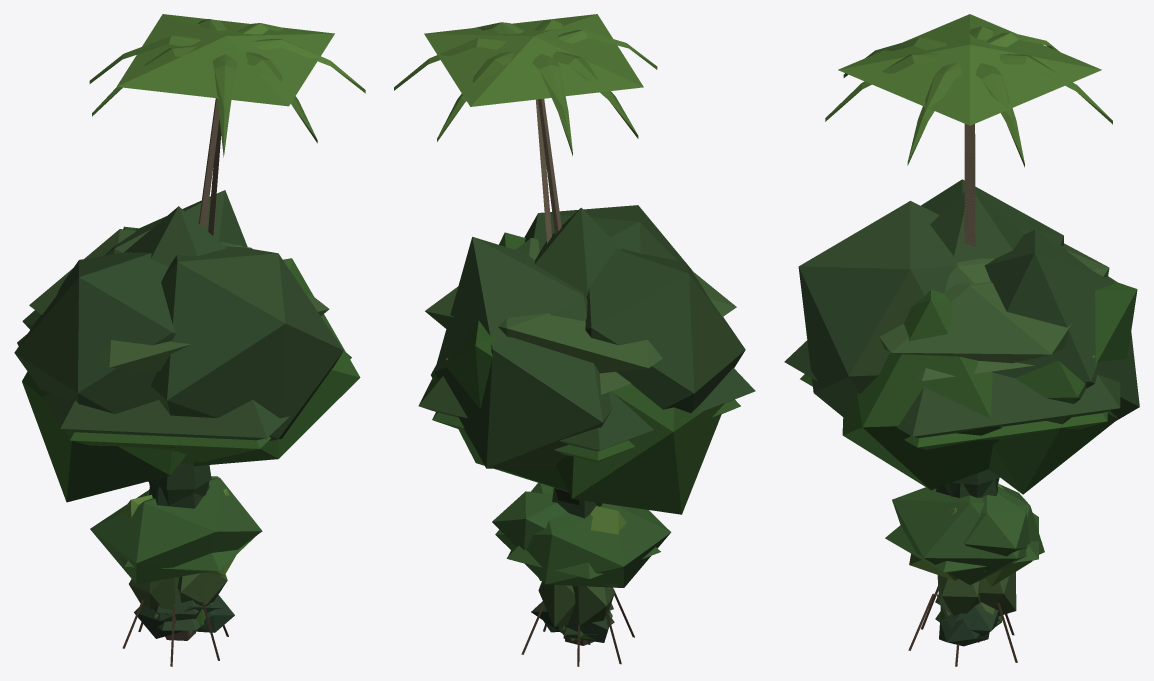
Rendered from plants.glb.
The picture shows the model from 3 angles, left to right: view 1: azimuth 30°, elevation 25°; view 2: azimuth 150°, elevation 25°; view 3: azimuth 270°, elevation 25°; orthographic projection. The views are drawn at different scales.
Parts seen in each view (by area): view 1: holm-oak, coconut-palm-far, mahogany, red-mangrove, holm-oak-far, coconut-palm, stone-pine, mahogany-far, azores-heath, tuckamore, italian-cypress, red-mangrove-far; view 2: holm-oak, mahogany, coconut-palm-far, red-mangrove, holm-oak-far, coconut-palm, stone-pine, azores-heath, mahogany-far, tuckamore, red-mangrove-far, sea-grape; view 3: holm-oak, mahogany, coconut-palm-far, holm-oak-far, red-mangrove, stone-pine, coconut-palm, azores-heath, mahogany-far, tuckamore, red-mangrove-far, sea-grape (+2 smaller).
Part boxes in pixels (x1,y1,x2,y2): holm-oak: [14, 190, 343, 640]; coconut-palm-far: [116, 14, 334, 235]; mahogany: [22, 226, 360, 502]; red-mangrove: [90, 476, 262, 666]; holm-oak-far: [17, 206, 351, 440]; coconut-palm: [89, 19, 365, 229]; stone-pine: [29, 229, 329, 371]; mahogany-far: [65, 430, 270, 464]; azores-heath: [129, 572, 227, 623]; tuckamore: [134, 595, 234, 638]; italian-cypress: [148, 463, 211, 505]; red-mangrove-far: [119, 535, 256, 572]; holm-oak: [434, 205, 745, 645]; mahogany: [431, 232, 724, 514]; coconut-palm-far: [424, 14, 643, 243]; red-mangrove: [492, 483, 671, 666]; holm-oak-far: [418, 207, 755, 644]; coconut-palm: [394, 19, 657, 234]; stone-pine: [425, 238, 736, 373]; azores-heath: [538, 581, 614, 627]; mahogany-far: [432, 399, 740, 462]; tuckamore: [531, 601, 612, 642]; red-mangrove-far: [506, 518, 660, 578]; sea-grape: [539, 506, 626, 587]; holm-oak: [798, 179, 1139, 640]; mahogany: [842, 280, 1137, 494]; coconut-palm-far: [838, 14, 1101, 246]; holm-oak-far: [784, 192, 1120, 642]; red-mangrove: [892, 484, 1044, 666]; stone-pine: [879, 243, 1109, 363]; coconut-palm: [825, 26, 1112, 167]; azores-heath: [937, 572, 1016, 616]; mahogany-far: [800, 374, 1107, 449]; tuckamore: [937, 594, 998, 646]; red-mangrove-far: [885, 513, 1038, 572]; sea-grape: [909, 483, 1032, 586].
Size of the model in its own units: 11.95 by 22.22 by 11.49.
